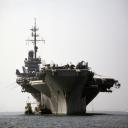Portanaves: (17, 17, 122, 118)
